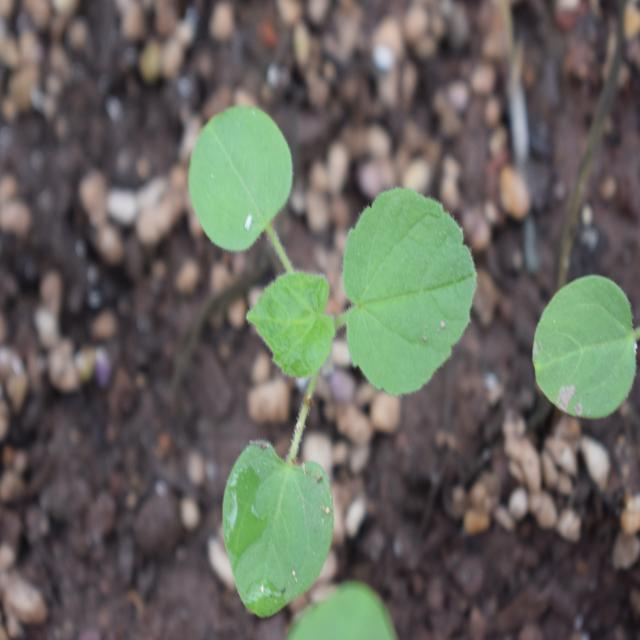abutilon theophrasti: (168, 90, 462, 610)
